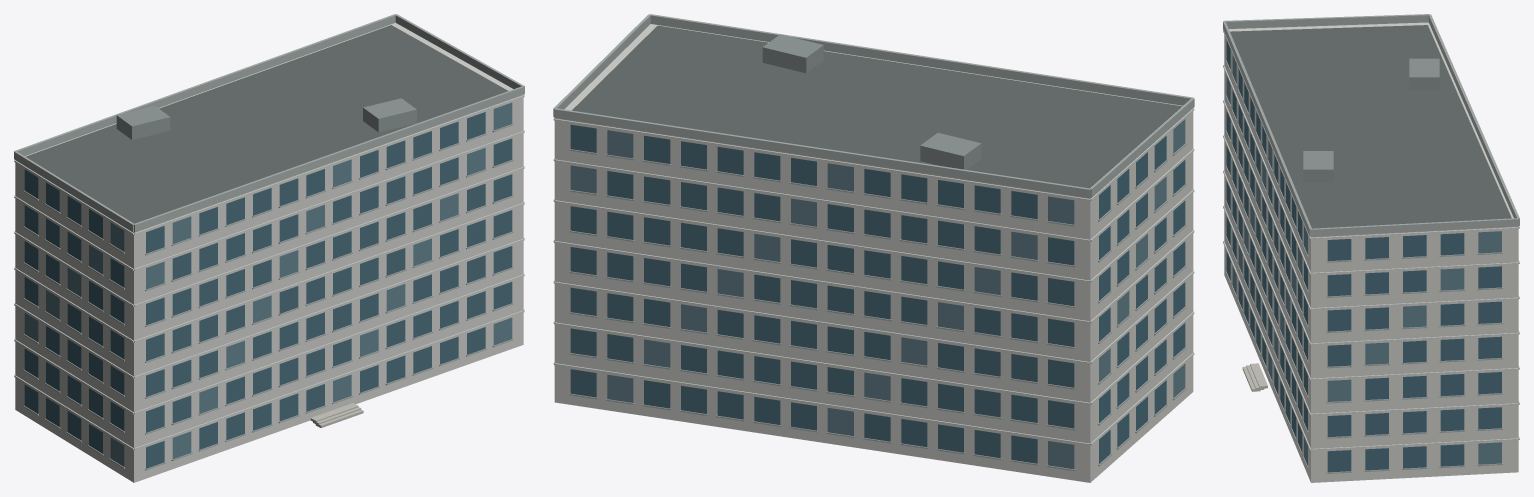
The model's file is 核心区西侧-017.glb.
3 renders of one model, left to right at view 1: azimuth 30°, elevation 25°; view 2: azimuth 150°, elevation 25°; view 3: azimuth 270°, elevation 25°, orthographic. The views are drawn at different scales.
Visible parts, largest first — view 1: 核心区西侧-017; view 2: 核心区西侧-017; view 3: 核心区西侧-017.
Boxes of the visible parts, left/top/right/bottom form: 核心区西侧-017: left=14, top=14, right=524, bottom=482; 核心区西侧-017: left=553, top=14, right=1194, bottom=482; 核心区西侧-017: left=1223, top=14, right=1519, bottom=482.
Size of the model in its own units: 46.95 by 26.42 by 27.31.
